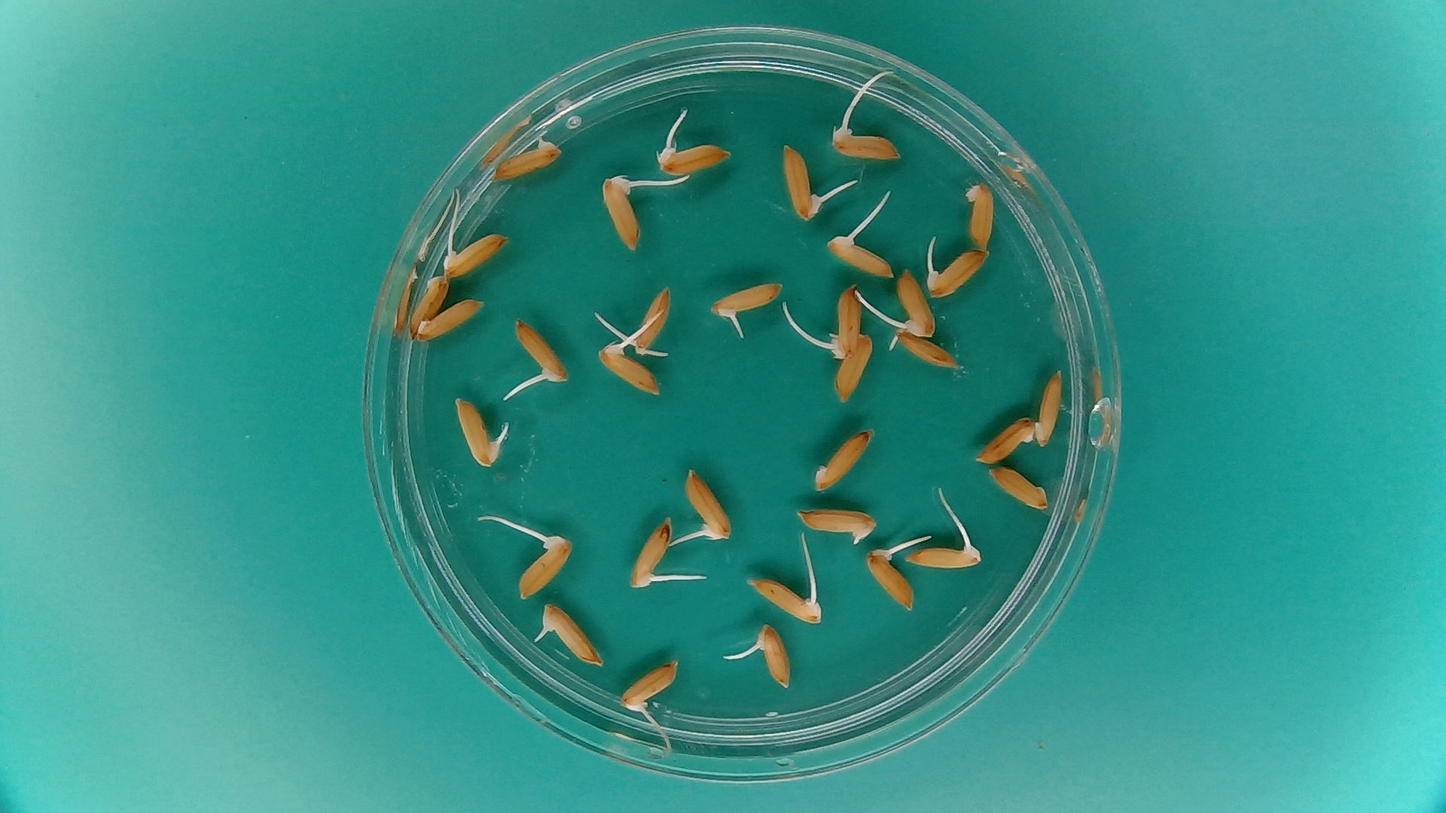no: (812, 425, 876, 495), (1030, 367, 1068, 450), (493, 135, 563, 180), (974, 415, 1035, 466), (986, 465, 1051, 512), (404, 269, 448, 338), (413, 298, 485, 340), (893, 330, 963, 370), (961, 178, 996, 251)
yes: (539, 601, 606, 665), (515, 532, 573, 601), (749, 574, 825, 624), (450, 397, 501, 469), (595, 346, 665, 397), (862, 550, 918, 613), (923, 246, 990, 298), (688, 469, 734, 544), (892, 263, 934, 343), (627, 515, 670, 592), (621, 656, 679, 711), (824, 233, 892, 279), (831, 329, 873, 403), (824, 285, 867, 357), (515, 324, 570, 380), (712, 278, 786, 319), (441, 231, 504, 279), (601, 178, 643, 248), (905, 534, 982, 571), (798, 506, 876, 542), (630, 285, 670, 353), (657, 139, 730, 176), (782, 147, 816, 221), (753, 623, 791, 688), (834, 129, 908, 162)
